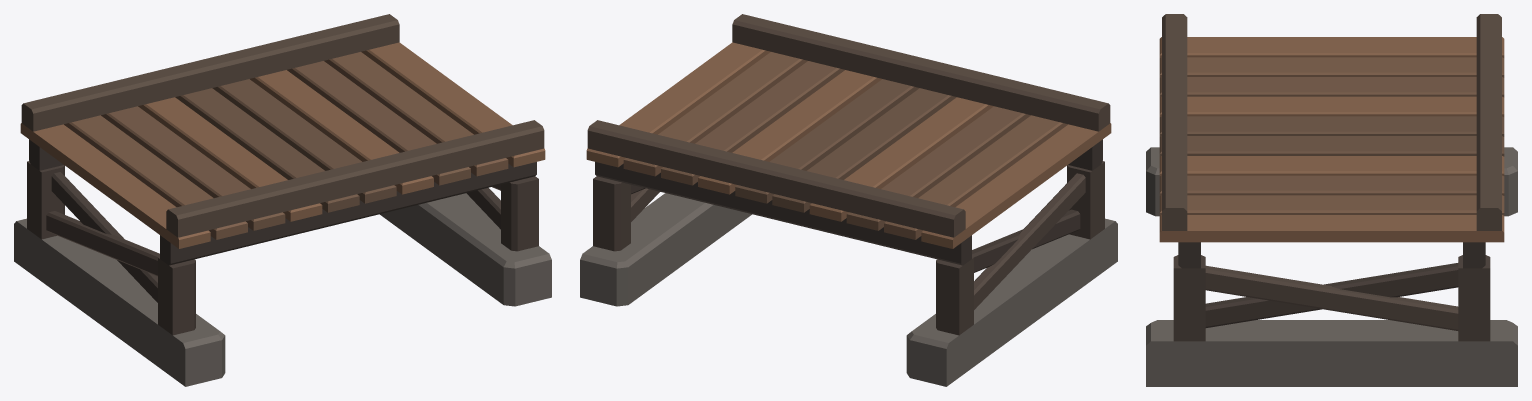
File: wetland-boardwalk-run-6aa967.glb
3 renders of one model, left to right at view 1: azimuth 30°, elevation 25°; view 2: azimuth 150°, elevation 25°; view 3: azimuth 270°, elevation 25°, orthographic. The views are drawn at different scales.
Visible parts, largest first — view 1: boardwalk-bay; view 2: boardwalk-bay; view 3: boardwalk-bay.
Part boxes in pixels (x1,y1,x2,y2): boardwalk-bay: (14, 14, 551, 386); boardwalk-bay: (580, 14, 1117, 386); boardwalk-bay: (1146, 14, 1517, 386).
Bounding box in the file's own units: 2 × 0.86 × 1.62.
